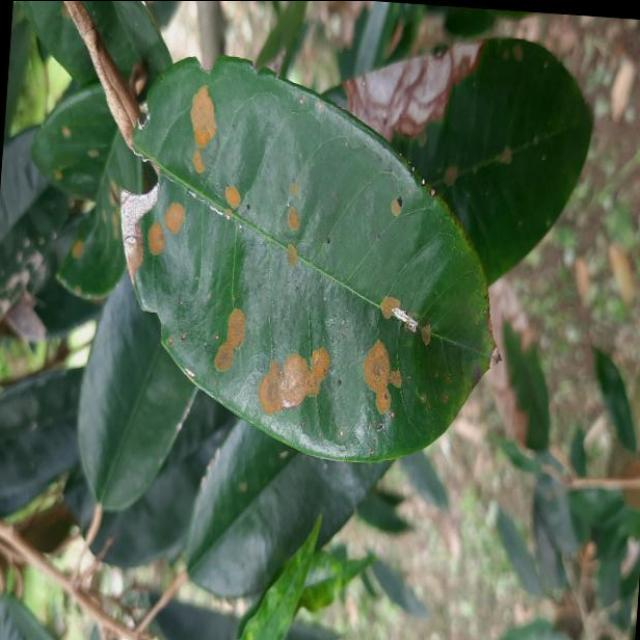Algal Leaf Spot: (99, 45, 521, 477)
